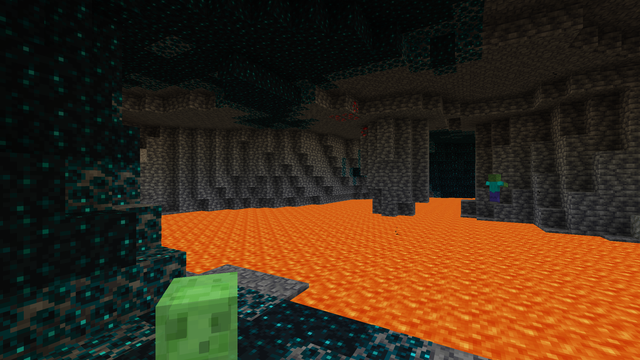slimes: (148, 267, 252, 357)
zombies: (488, 174, 499, 204)
